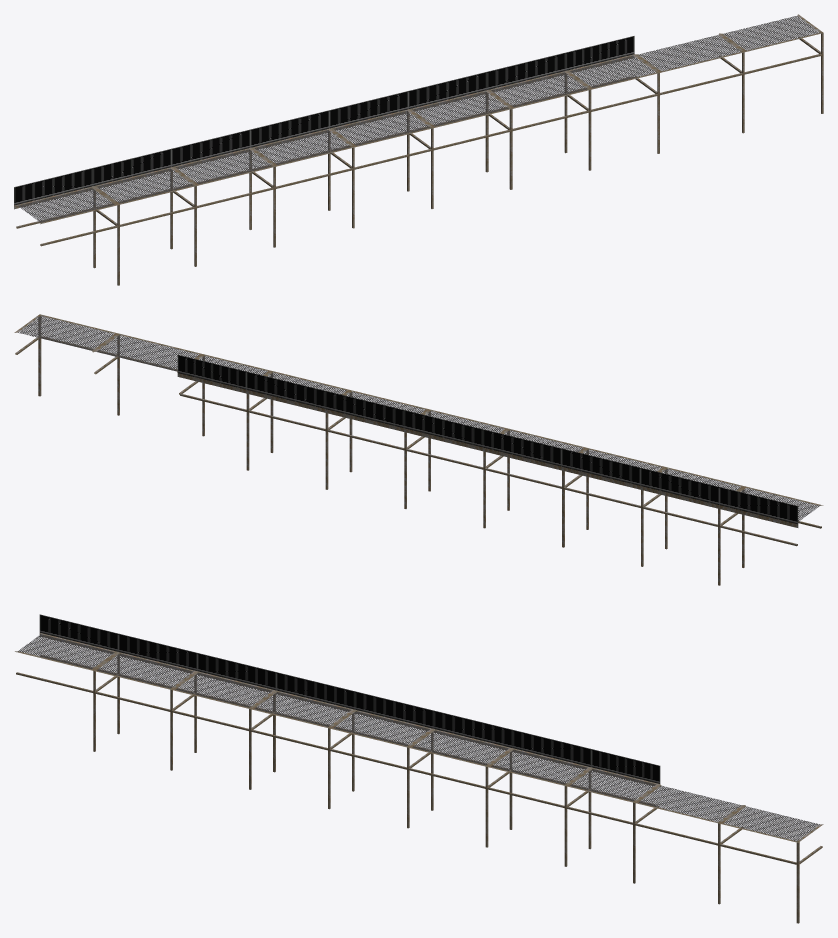
Rendered from crackfactwalke.obj.
The picture shows the model from 3 angles, top to bottom: view 1: azimuth 30°, elevation 25°; view 2: azimuth 150°, elevation 25°; view 3: azimuth 330°, elevation 25°; orthographic projection.
Visible parts, largest first — view 1: crackfactwalke; view 2: crackfactwalke; view 3: crackfactwalke.
Boxes of the visible parts, box(x1,y1,x2,y2) form: crackfactwalke: box(14, 14, 823, 285); crackfactwalke: box(14, 314, 823, 585); crackfactwalke: box(15, 614, 823, 923).
Size of the model in its own units: 42.58 by 5.15 by 2.42.
3 materials, 3 textured.
